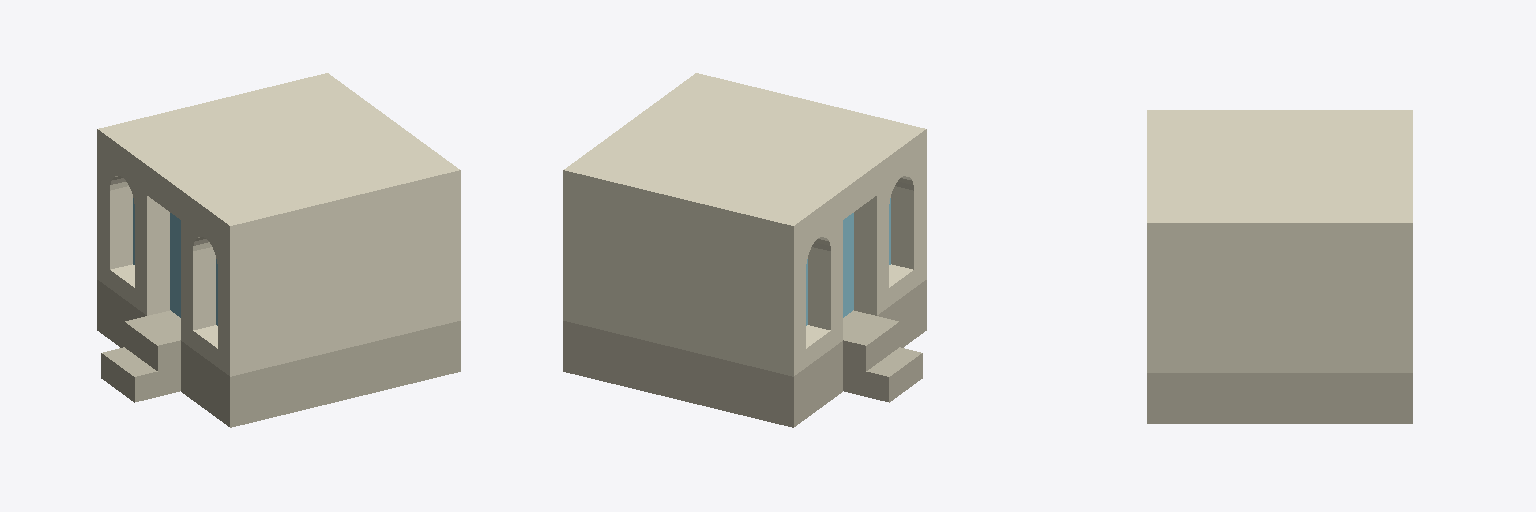
File: basement2.obj
3 renders of one model, left to right at view 1: azimuth 30°, elevation 25°; view 2: azimuth 150°, elevation 25°; view 3: azimuth 270°, elevation 25°, orthographic.
Visible parts, largest first — view 1: basement2; view 2: basement2; view 3: basement2.
Boxes of the visible parts, x1,y1,x2,y2 form: basement2: [97, 73, 460, 427]; basement2: [563, 73, 926, 427]; basement2: [1147, 110, 1412, 423].
Bounding box in the file's own units: 1.2 × 0.8375 × 1.